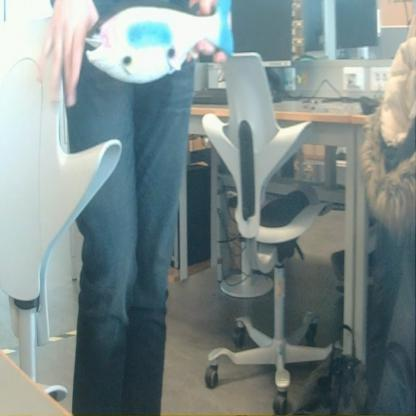rubberfish: (78, 0, 237, 92)
